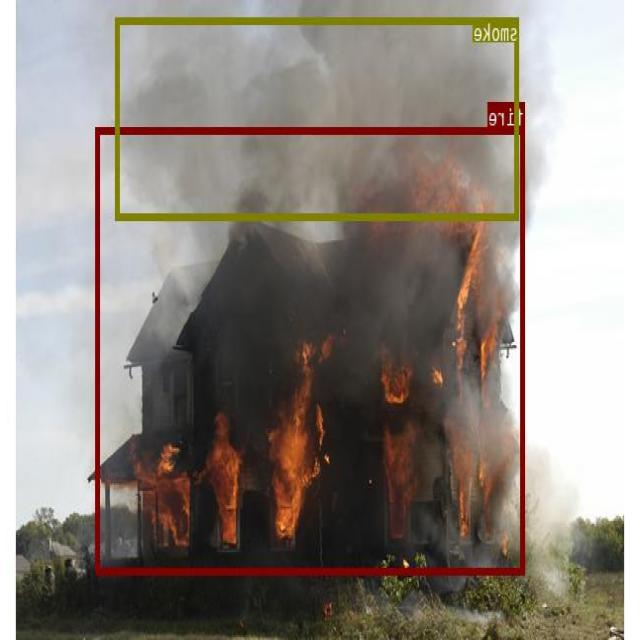fire: (97, 127, 525, 573)
smoke: (117, 17, 519, 218)
